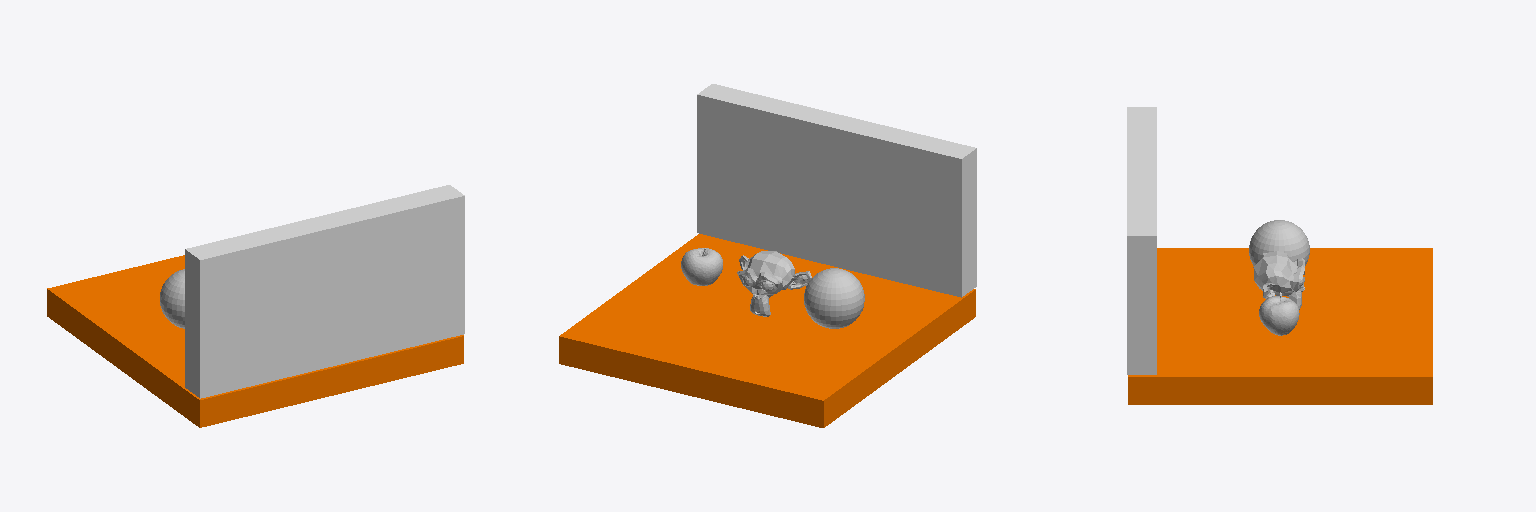
3 renders of one model, left to right at view 1: azimuth 30°, elevation 25°; view 2: azimuth 150°, elevation 25°; view 3: azimuth 270°, elevation 25°, orthographic.
Parts seen in each view (by area): view 1: Wall, Ground, Sphere; view 2: Wall, Ground, Sphere, Suzanne, Apple; view 3: Ground, Wall, Suzanne, Sphere, Apple.
Boxes of the visible parts, x1=… form: Wall: x1=185, y1=185, x2=464, y2=398; Ground: x1=47, y1=255, x2=463, y2=427; Sphere: x1=160, y1=269, x2=184, y2=328; Wall: x1=697, y1=84, x2=976, y2=297; Ground: x1=559, y1=234, x2=975, y2=427; Sphere: x1=804, y1=268, x2=864, y2=328; Suzanne: x1=737, y1=251, x2=811, y2=316; Apple: x1=681, y1=248, x2=722, y2=285; Ground: x1=1128, y1=248, x2=1432, y2=404; Wall: x1=1127, y1=107, x2=1156, y2=374; Suzanne: x1=1253, y1=251, x2=1304, y2=309; Sphere: x1=1249, y1=220, x2=1309, y2=265; Apple: x1=1259, y1=292, x2=1299, y2=335.
Size of the model in its own units: 20 by 12.15 by 20.07.